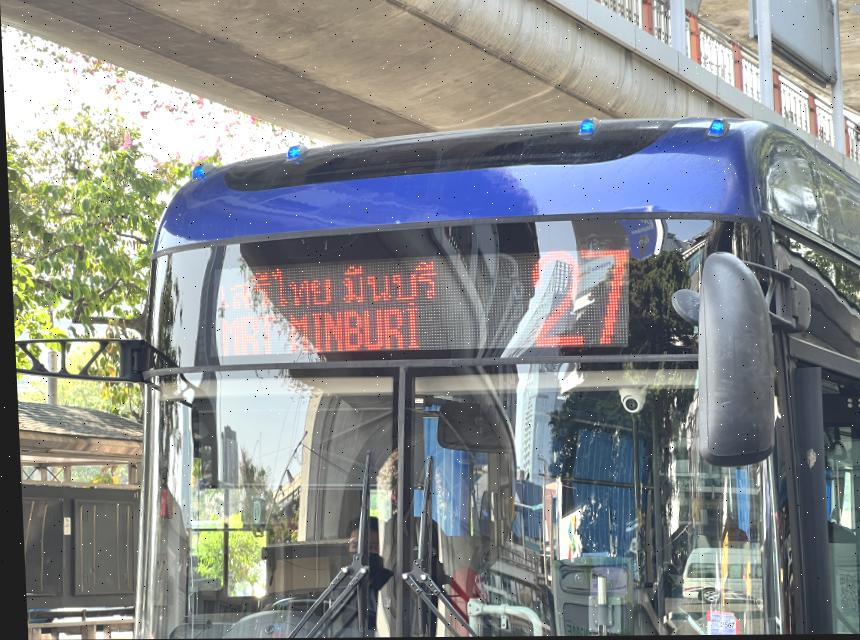Bus Line Number: (516, 238, 642, 361)
Destination Sign: (204, 259, 462, 357)
TSB-Bus: (126, 119, 860, 639)
